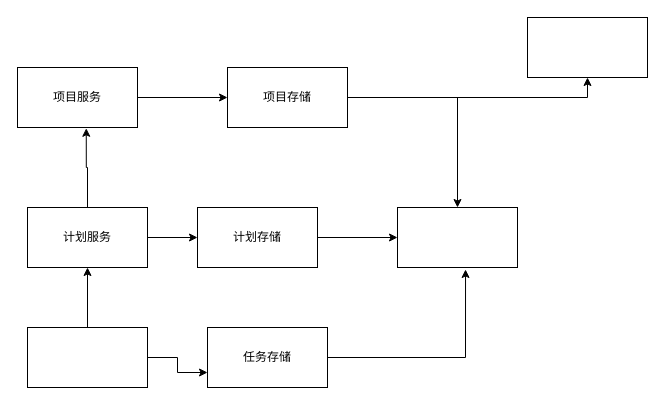
The diagram is 665 pixels wide and 405 high, and some of its shapes have lost their labels. Each missing label, with the box of its shape:
任务服务: (26, 326, 148, 388)
存储: (396, 206, 518, 268)
项目实体: (526, 16, 648, 78)
